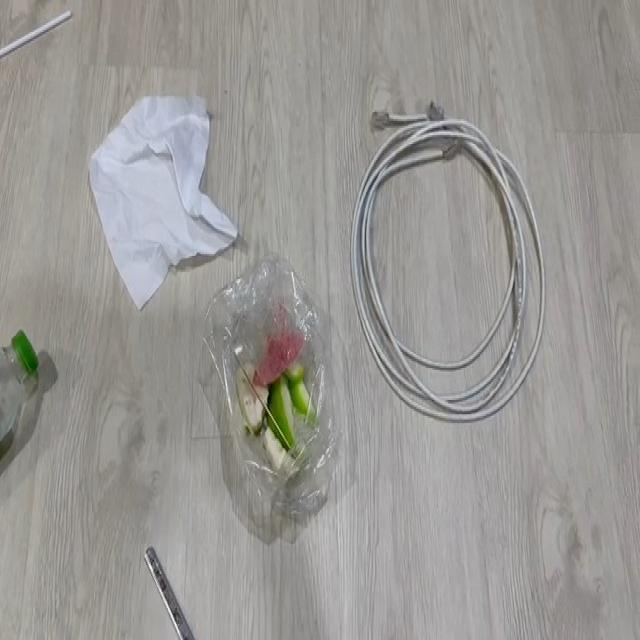Anorganik: (93, 78, 231, 302), (146, 531, 212, 640), (0, 359, 38, 521), (0, 22, 57, 87)
B3: (358, 102, 529, 403), (208, 274, 354, 514)
